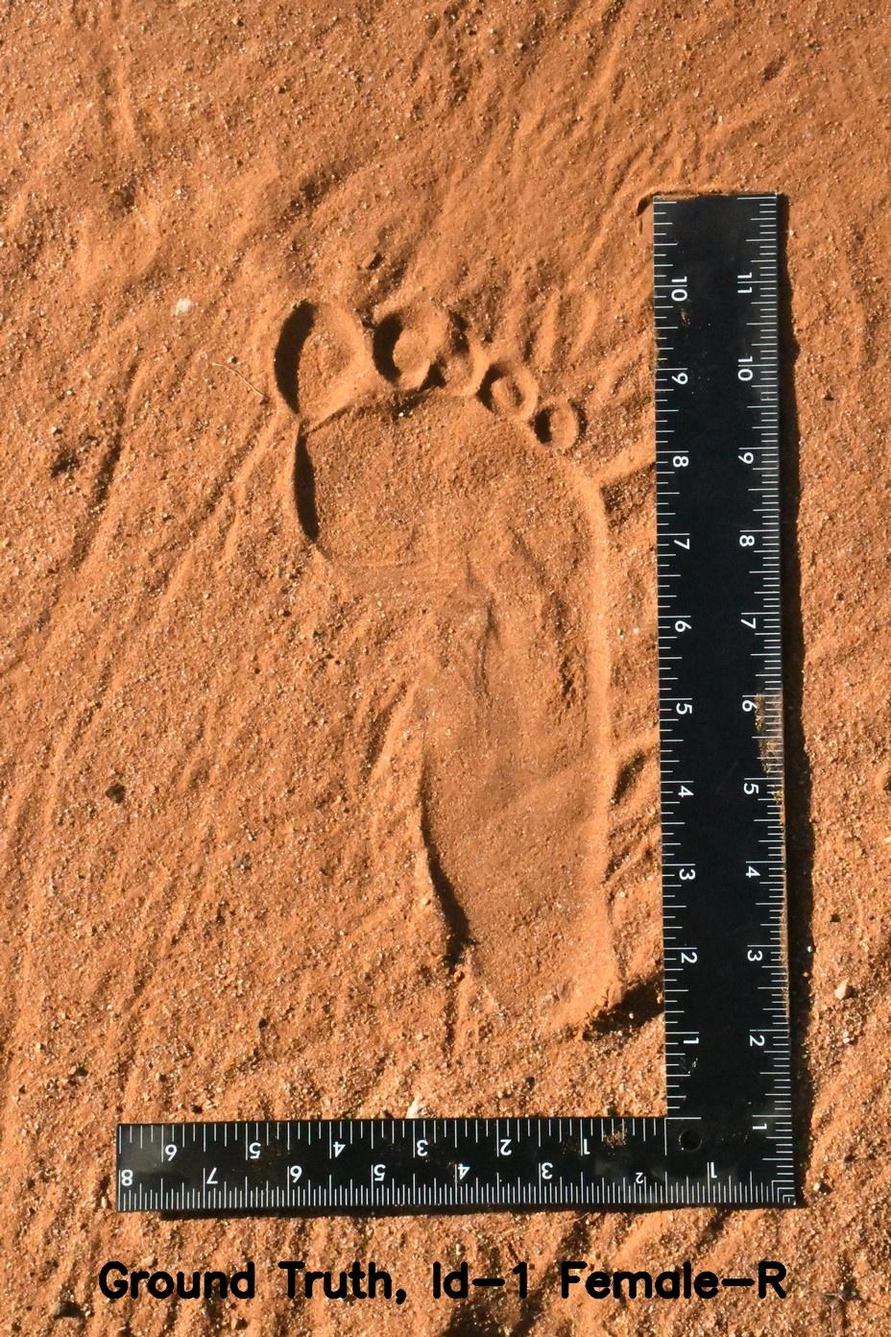human_foot_print: (257, 260, 673, 1088)
